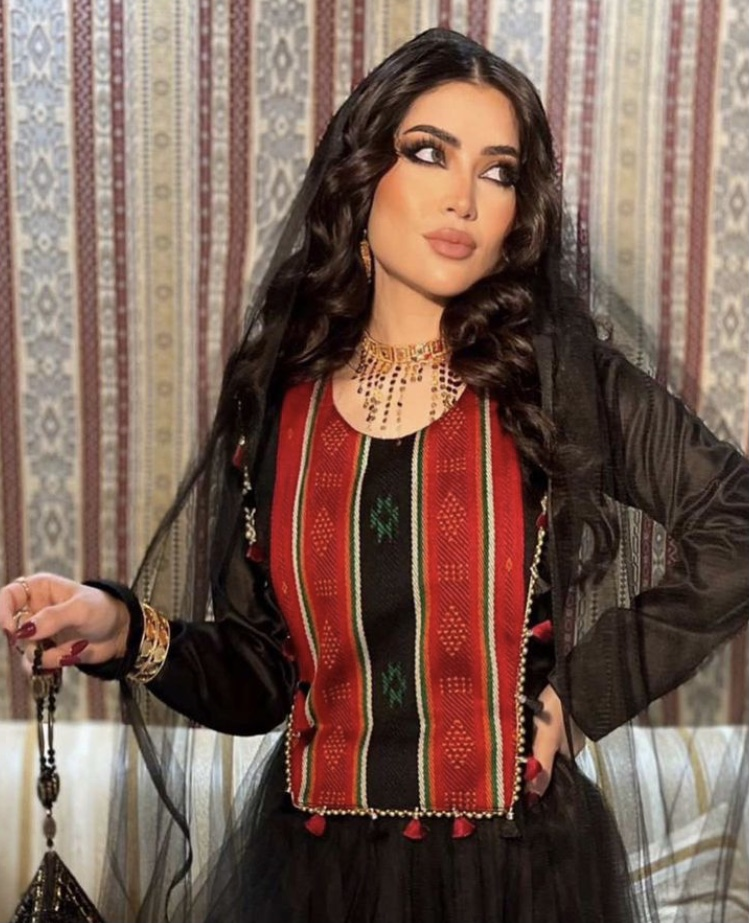Saudi_Founding_Day: (1, 26, 749, 923)
